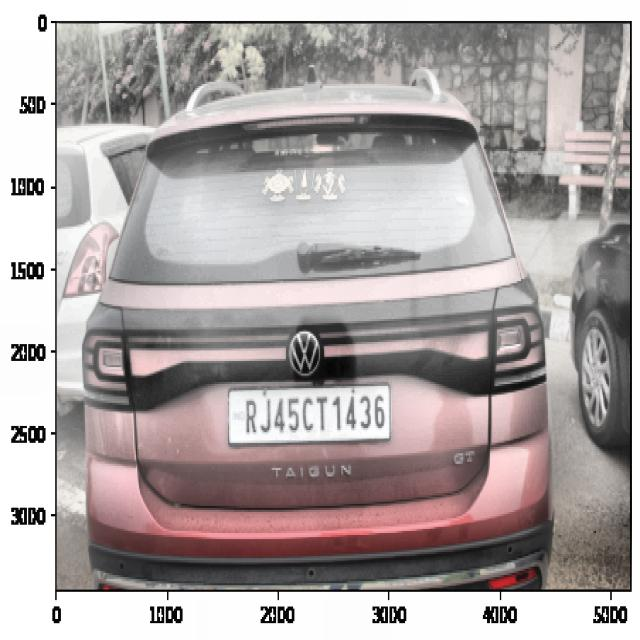license_plate: (238, 388, 392, 441)
